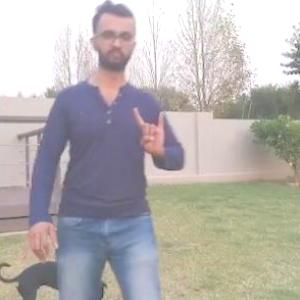takeoff-hand: (132, 100, 173, 159)
